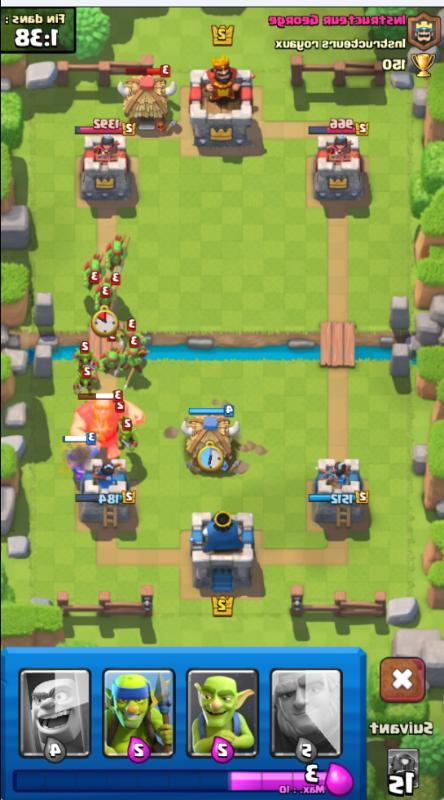enemy_giant: (69, 391, 144, 455)
enemy_goblin_hut: (116, 62, 179, 134)
enemy_spear_goblins: (96, 334, 125, 379), (114, 416, 141, 452), (92, 274, 122, 304), (122, 336, 151, 367), (71, 343, 96, 374), (79, 258, 104, 289), (71, 368, 99, 395), (104, 235, 129, 264)
player_goblin_hut: (179, 405, 243, 476)
